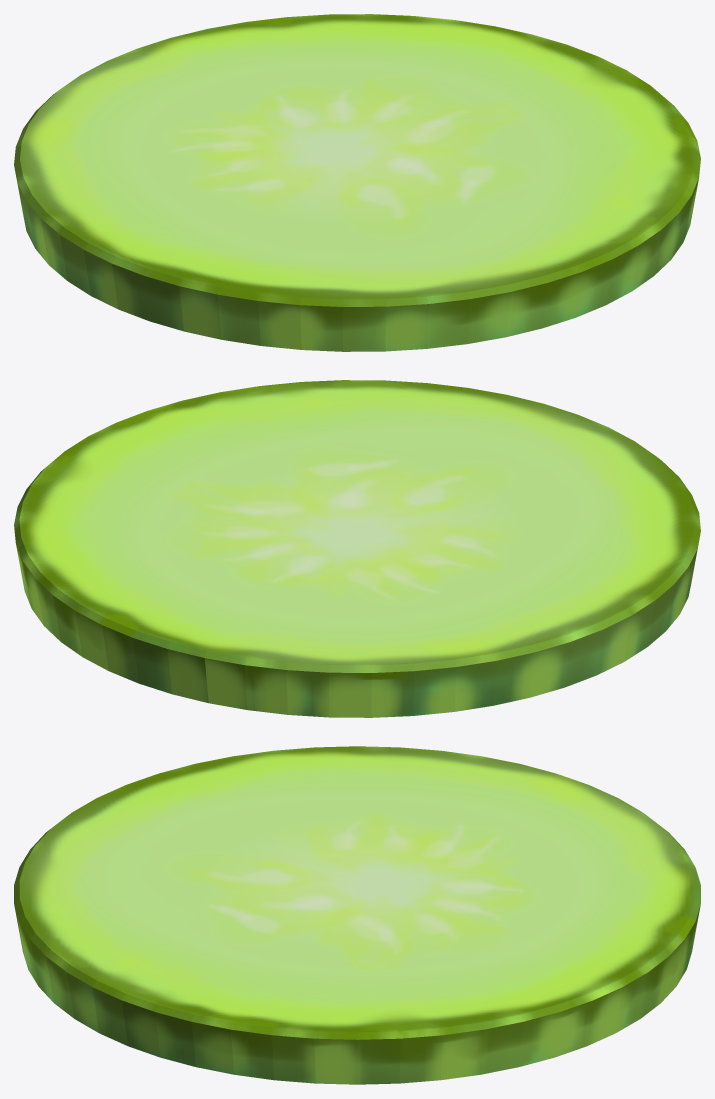
Rendered from Cucumber Slice.fbx.
The picture shows the model from 3 angles, top to bottom: view 1: azimuth 30°, elevation 25°; view 2: azimuth 150°, elevation 25°; view 3: azimuth 270°, elevation 25°; orthographic projection.
Visible parts, largest first — view 1: pSphere7; view 2: pSphere7; view 3: pSphere7.
Boxes of the visible parts, bbox=[...] form: pSphere7: bbox=[14, 14, 700, 351]; pSphere7: bbox=[14, 380, 700, 717]; pSphere7: bbox=[14, 746, 700, 1084].
Size of the model in its own units: 365 by 31.52 by 365.
1 material, 1 textured.
